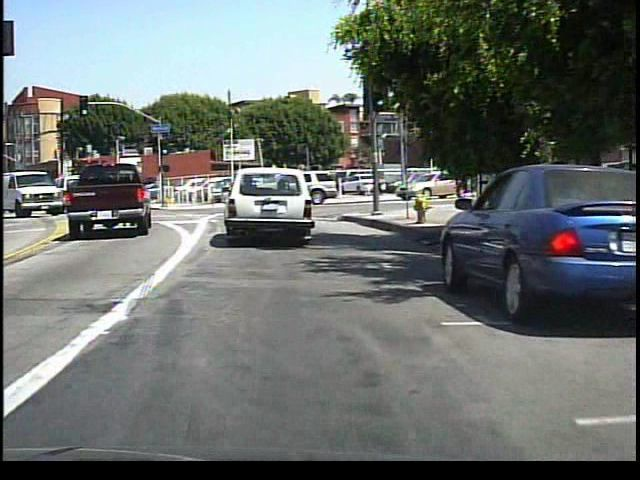person: (366, 166, 382, 201)
